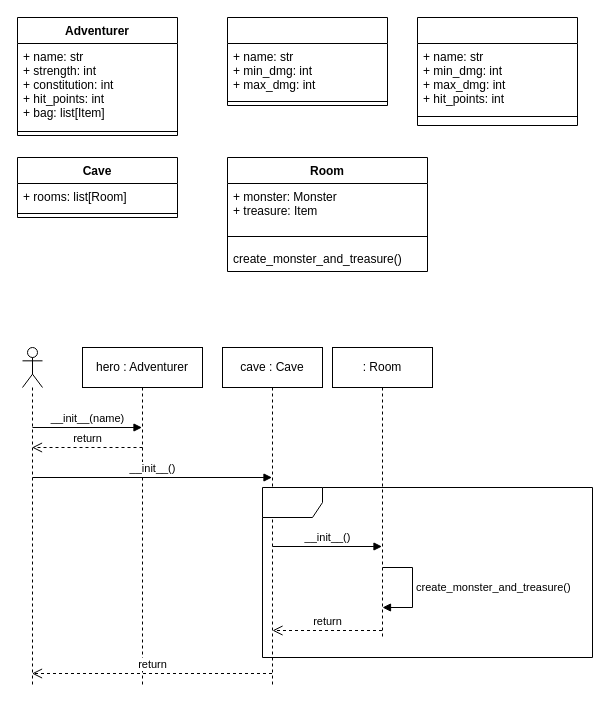
Image size: 610x705. Some labels were removed from this diagram. The shapes that lost their labels are listed below. From the top down, each one's box as (x1, y1, x2, y2) in pixels, then its label:
(226, 16, 388, 106): Item
(416, 16, 578, 126): Monster
(262, 486, 592, 658): loop
